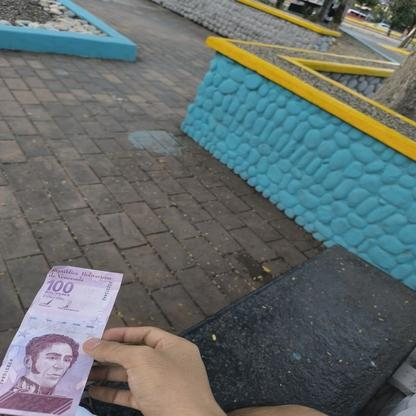one_hundred-front-vef: (0, 264, 124, 416)
